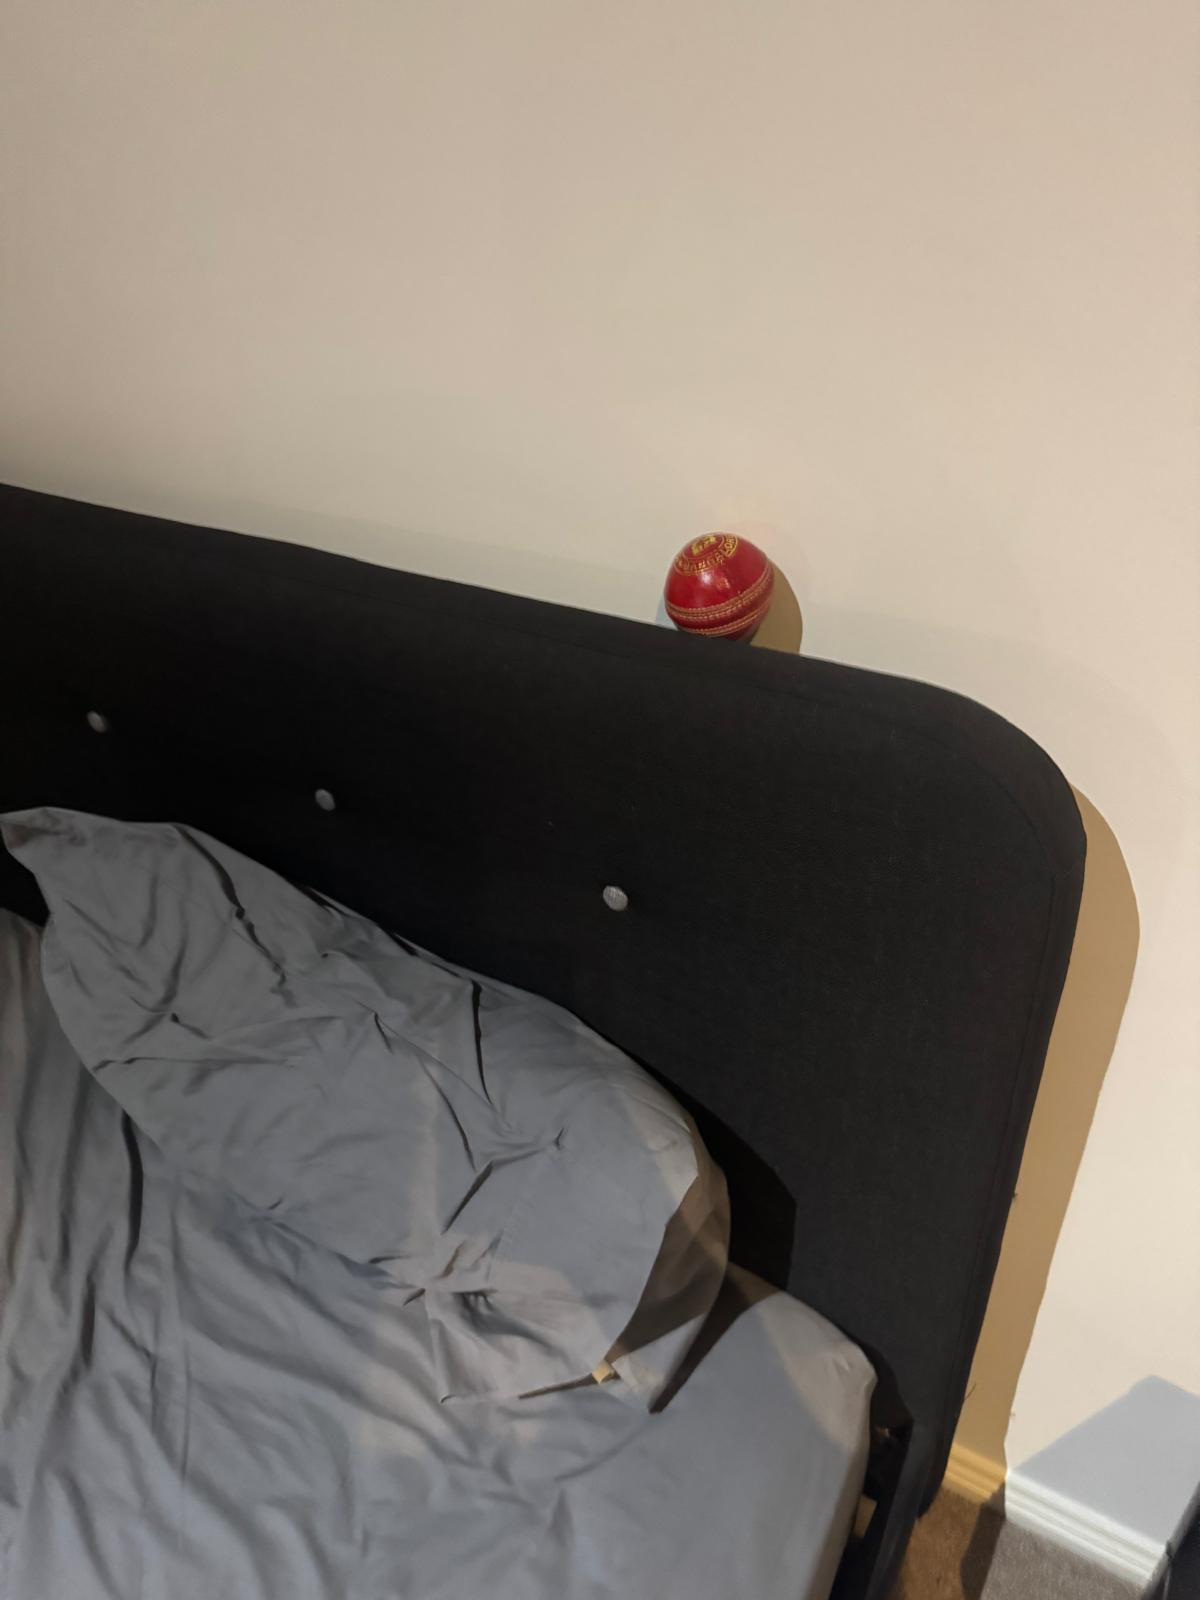Red_Ball: (666, 508, 776, 656)
